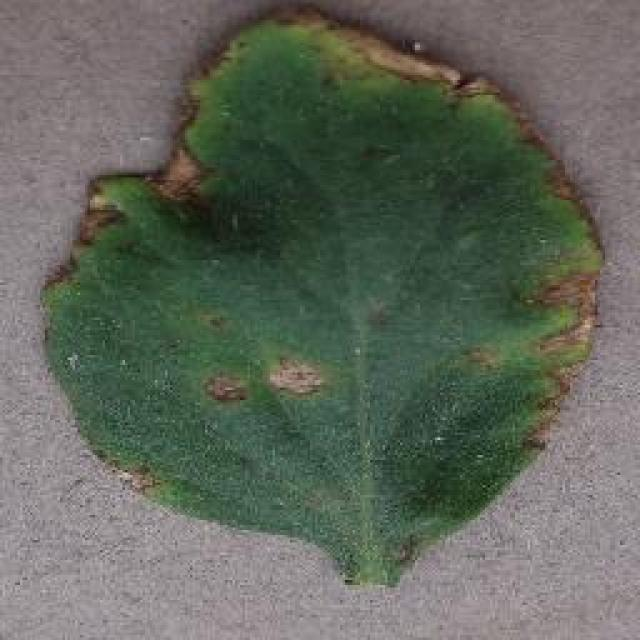Tomato___Bacterial_spot: (32, 4, 608, 586)
